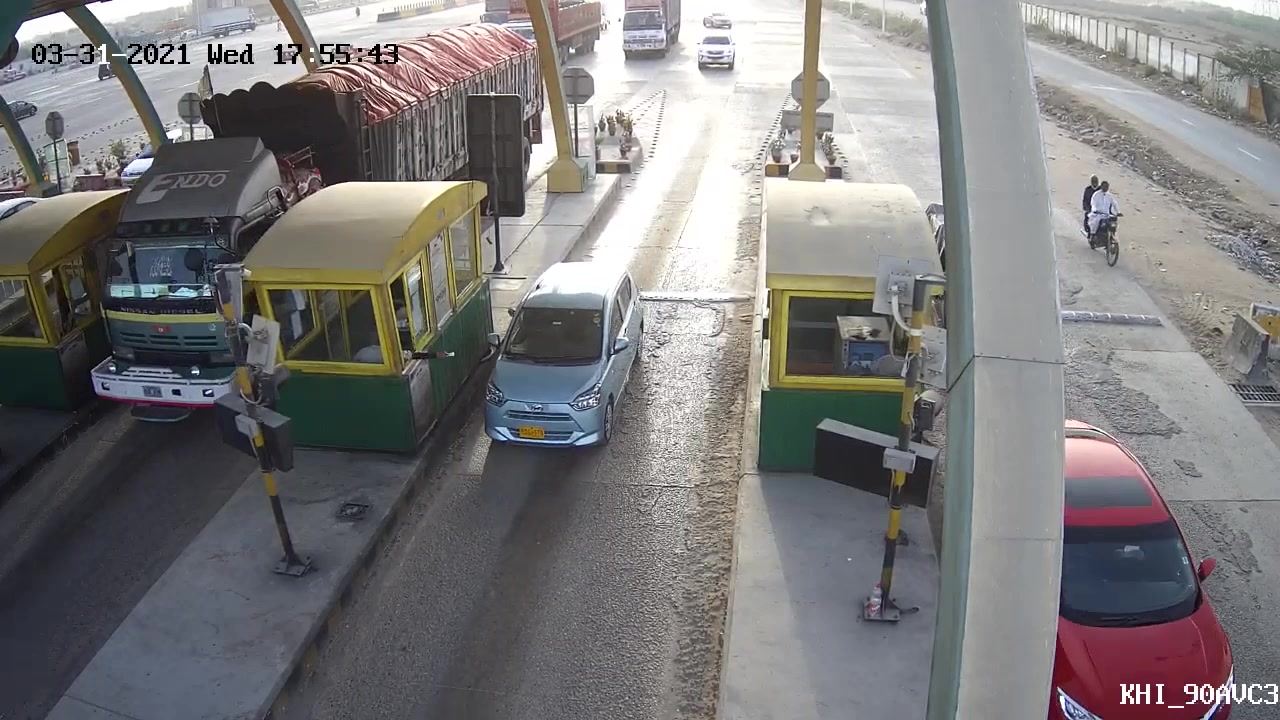F1: (482, 258, 651, 452)
